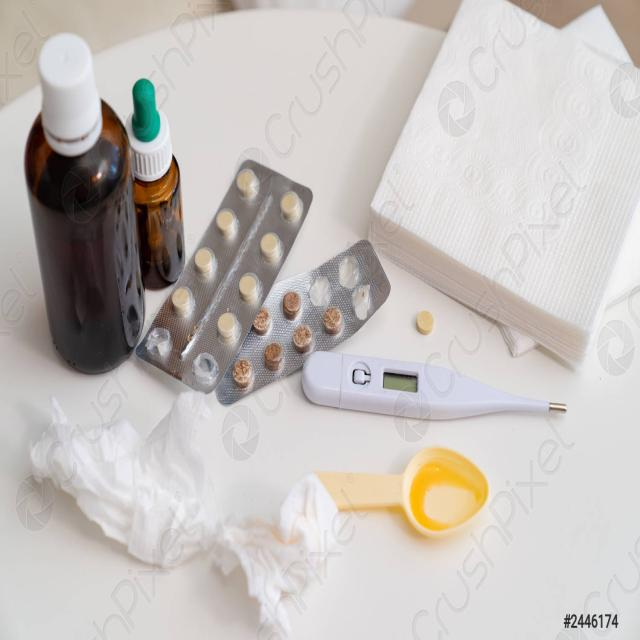B3: (14, 14, 144, 390), (210, 230, 392, 413), (188, 120, 323, 280), (111, 71, 190, 293)
